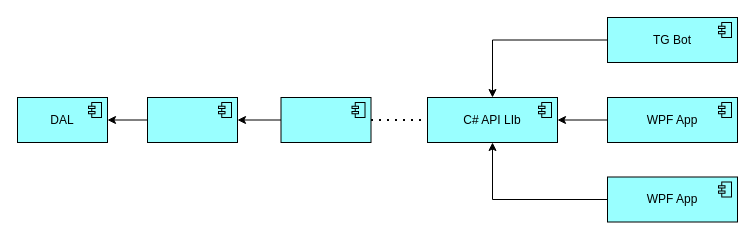
Some shapes in this 755 by 240 pixel diagram are drawn without their labels. Each missing label, with the centre of its shape:
API: (x=325, y=119)
BLL: (x=192, y=119)
